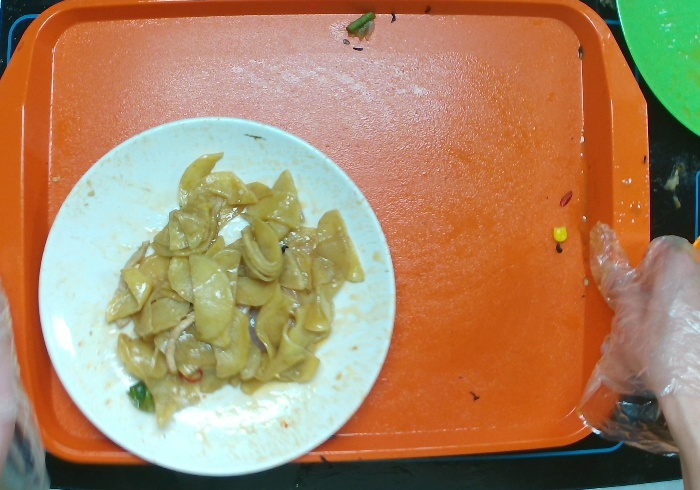HZYJPL-Bai_Se_Yuan_Pan: (36, 118, 398, 464)
